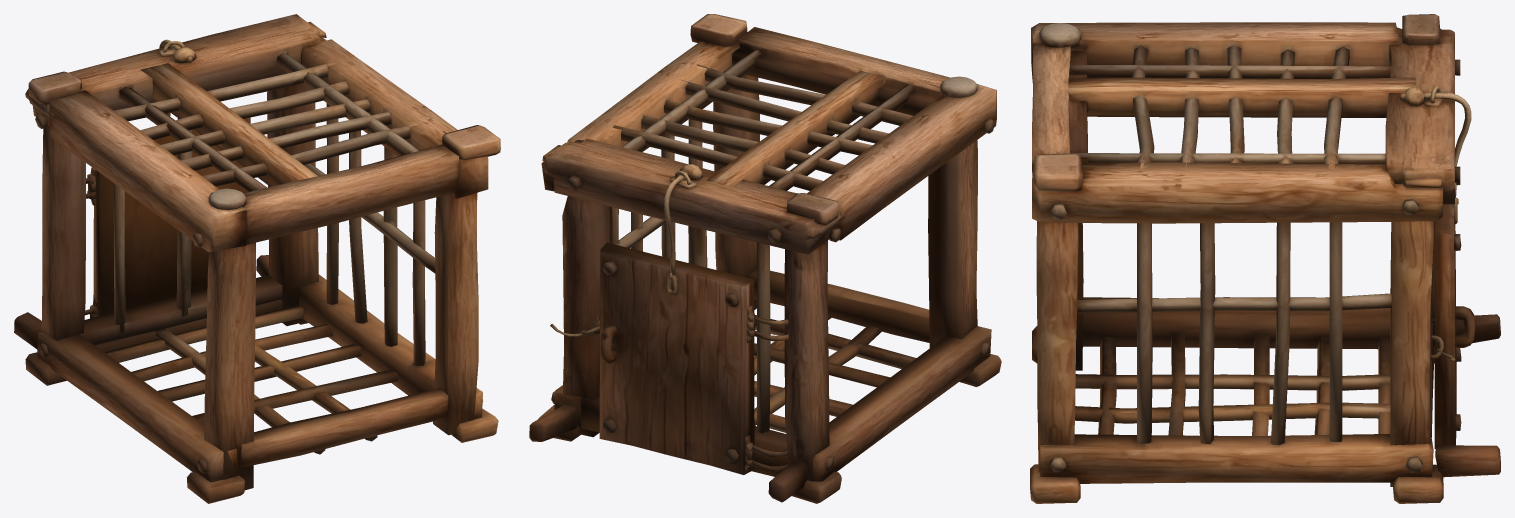
3 views of the same model, side by side, from view 1: azimuth 30°, elevation 25°; view 2: azimuth 150°, elevation 25°; view 3: azimuth 270°, elevation 25° (orthographic). The views are drawn at different scales.
Visible parts, largest first — view 1: tripo_node_f3f3f1da-cc98-456f-9f4a-5a343c8f6750; view 2: tripo_node_f3f3f1da-cc98-456f-9f4a-5a343c8f6750; view 3: tripo_node_f3f3f1da-cc98-456f-9f4a-5a343c8f6750.
Boxes of the visible parts, bbox=[...] form: tripo_node_f3f3f1da-cc98-456f-9f4a-5a343c8f6750: bbox=[14, 14, 500, 503]; tripo_node_f3f3f1da-cc98-456f-9f4a-5a343c8f6750: bbox=[529, 14, 1001, 503]; tripo_node_f3f3f1da-cc98-456f-9f4a-5a343c8f6750: bbox=[1030, 14, 1500, 503].
Size of the model in its own units: 0.8223 by 0.791 by 0.998.
1 material, 1 textured.
